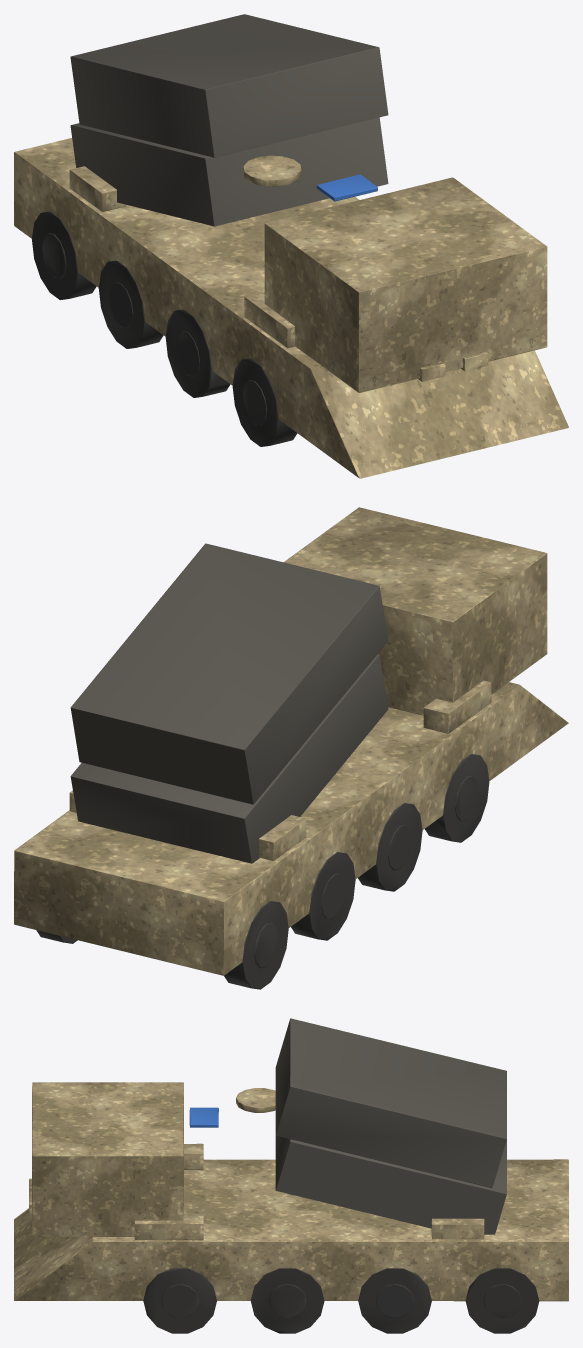
File: msl_e4_us_coastal_LOD1.glb
The picture shows the model from 3 angles, top to bottom: view 1: azimuth 30°, elevation 25°; view 2: azimuth 150°, elevation 25°; view 3: azimuth 270°, elevation 25°; orthographic projection. The views are drawn at different scales.
Visible parts, largest first — view 1: msl_e4_us_coastal_LOD1_body, msl_e4_us_coastal_LOD1_deck, msl_e4_us_coastal_LOD1_track, msl_e4_us_coastal_LOD1_team; view 2: msl_e4_us_coastal_LOD1_body, msl_e4_us_coastal_LOD1_deck, msl_e4_us_coastal_LOD1_track; view 3: msl_e4_us_coastal_LOD1_body, msl_e4_us_coastal_LOD1_deck, msl_e4_us_coastal_LOD1_track, msl_e4_us_coastal_LOD1_team.
Boxes of the visible parts, box(x1,y1,x2,y2) form: msl_e4_us_coastal_LOD1_body: box(14, 138, 568, 478); msl_e4_us_coastal_LOD1_deck: box(70, 14, 388, 226); msl_e4_us_coastal_LOD1_track: box(32, 211, 297, 446); msl_e4_us_coastal_LOD1_team: box(316, 174, 377, 201); msl_e4_us_coastal_LOD1_body: box(14, 507, 568, 975); msl_e4_us_coastal_LOD1_deck: box(70, 543, 388, 863); msl_e4_us_coastal_LOD1_track: box(36, 754, 489, 989); msl_e4_us_coastal_LOD1_body: box(14, 1082, 568, 1301); msl_e4_us_coastal_LOD1_deck: box(275, 1018, 506, 1234); msl_e4_us_coastal_LOD1_track: box(143, 1268, 539, 1333); msl_e4_us_coastal_LOD1_team: box(189, 1107, 218, 1127).
Size of the model in its own units: 2.99 by 4.01 by 8.39.
5 materials, 1 textured.
